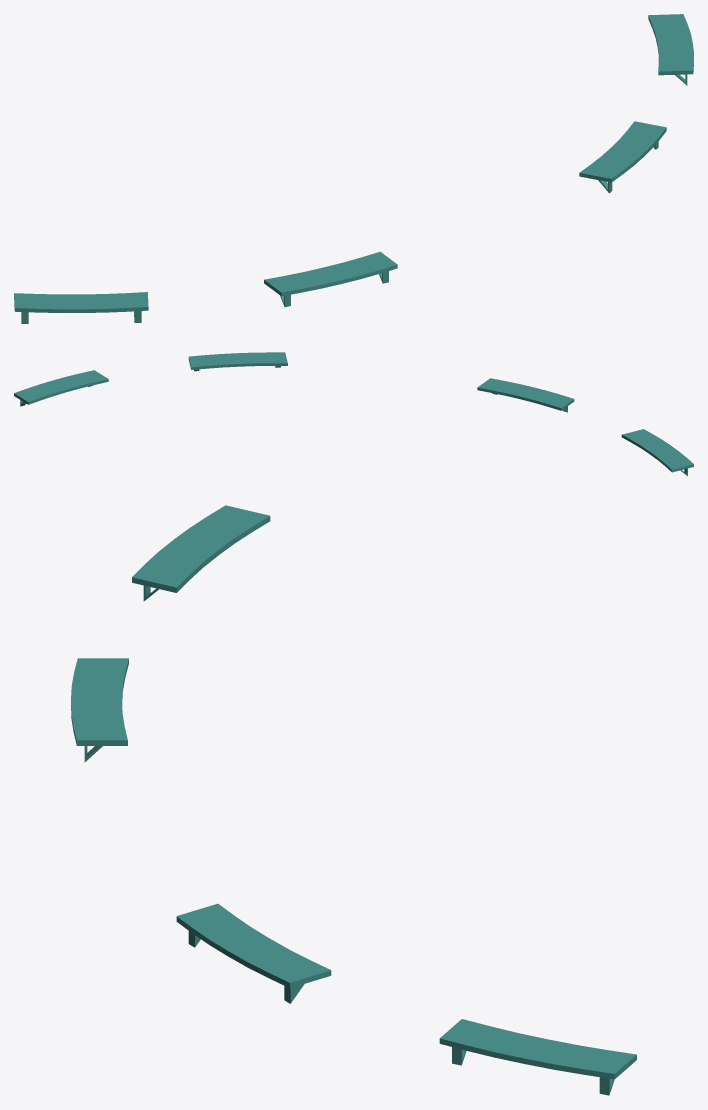
The model's file is EstantesMenores.fbx.
The picture shows the model from 3 angles, top to bottom: view 1: azimuth 30°, elevation 25°; view 2: azimuth 150°, elevation 25°; view 3: azimuth 270°, elevation 25°; orthographic projection. The views are drawn at different scales.
Parts seen in each view (by area): view 1: Cube.086, Cube.020, Cube.046, Cube.043; view 2: Cube.046, Cube.086, Cube.043, Cube.020; view 3: Cube.043, Cube.046, Cube.020, Cube.086.
Part boxes in pixels (x1,y1,x2,y2): Cube.086: [264, 251, 397, 307]; Cube.020: [14, 292, 148, 323]; Cube.046: [579, 121, 666, 193]; Cube.043: [648, 14, 693, 85]; Cube.046: [188, 352, 287, 371]; Cube.086: [477, 378, 574, 412]; Cube.043: [14, 370, 108, 406]; Cube.020: [621, 429, 693, 475]; Cube.043: [439, 1019, 636, 1095]; Cube.046: [176, 903, 331, 1003]; Cube.020: [132, 505, 270, 601]; Cube.086: [71, 658, 128, 762].
Bounding box in the file's own units: 1198 × 26.03 × 504.
